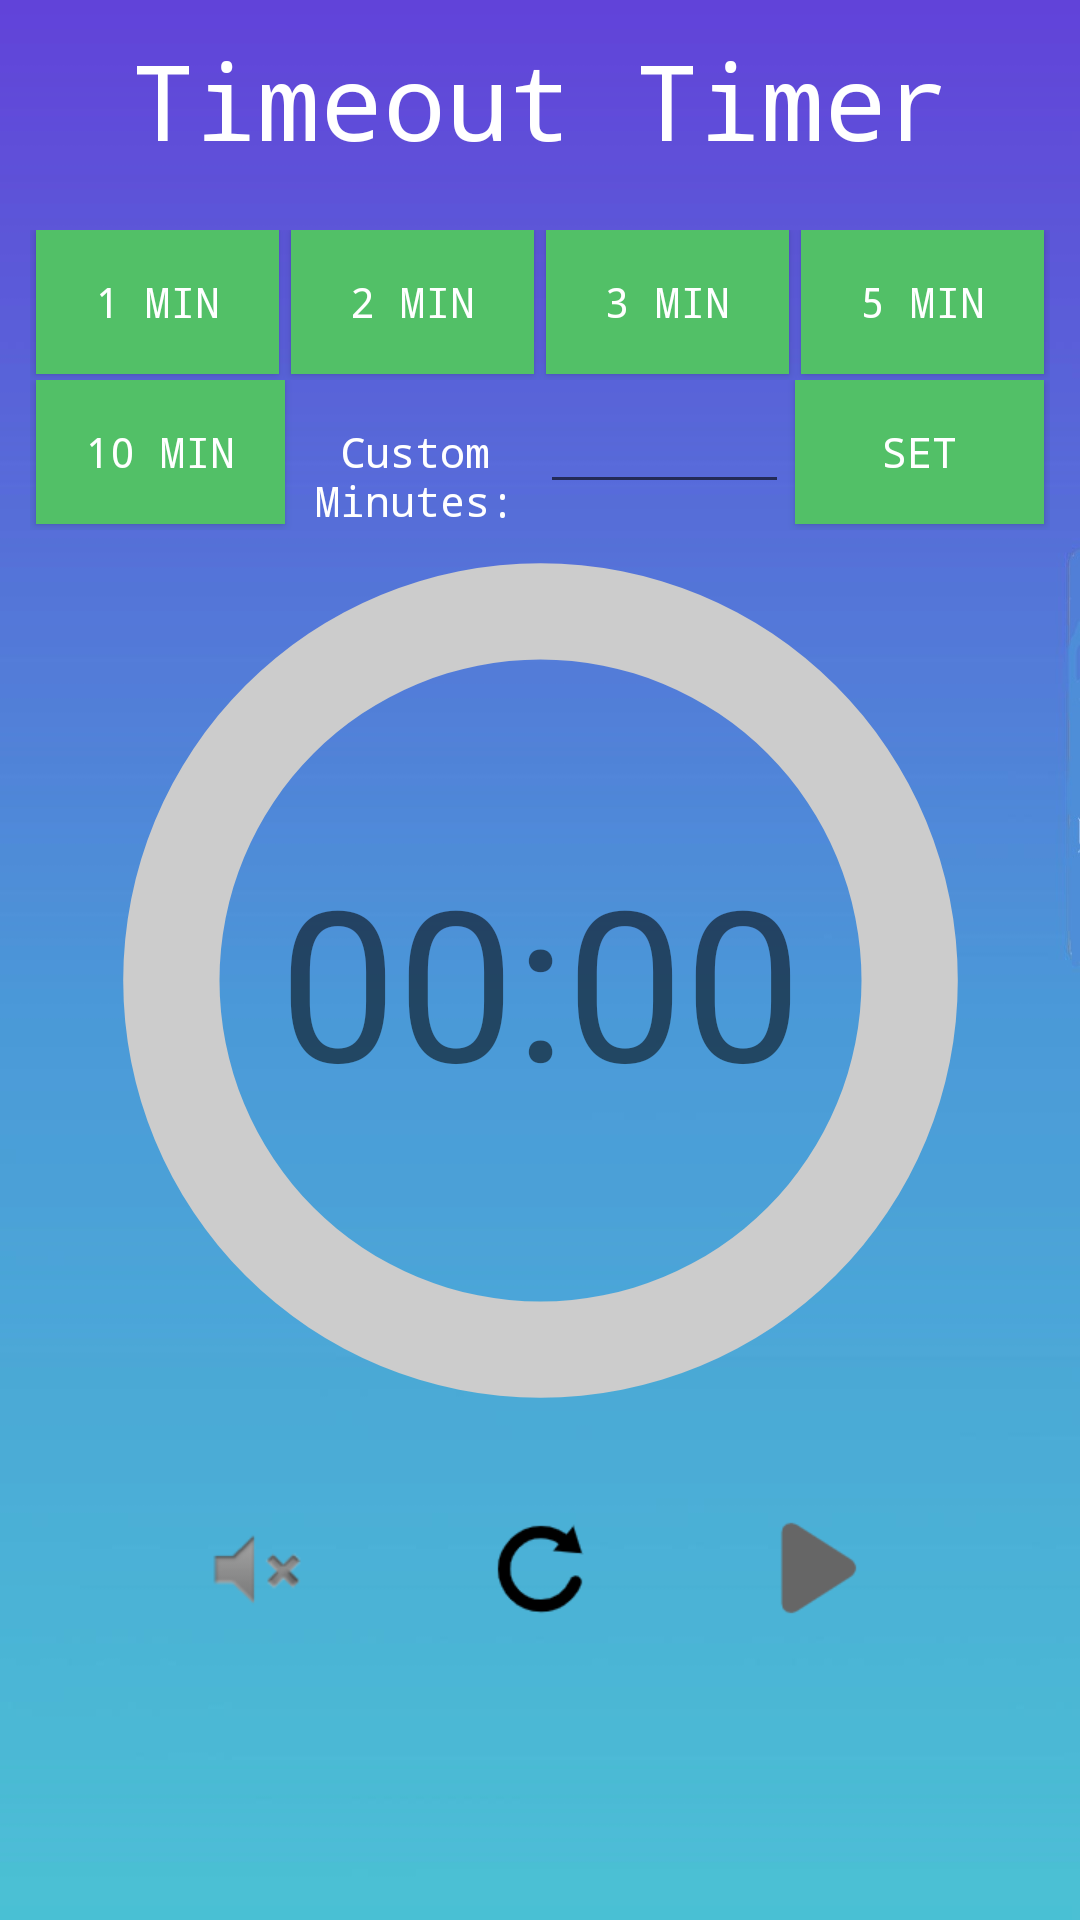

Icons on this 1080px×1920px Android screen, each with the point to tap as (x,y):
lock silent mode: (257,1569)
reset: (540,1569)
resume: (818,1568)
